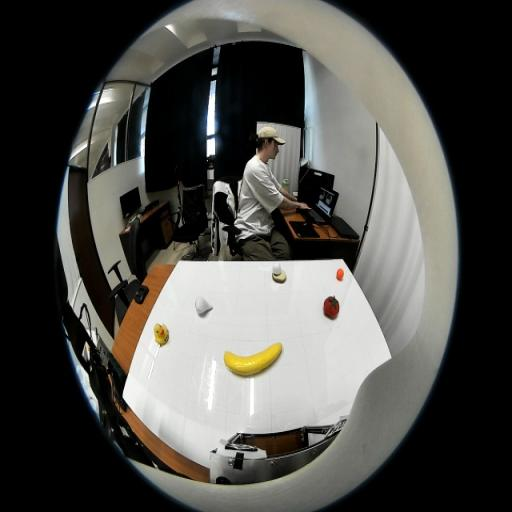Banana: (224, 342, 282, 376)
Duck: (154, 323, 168, 344)
Mushroom: (272, 262, 286, 282)
Onion: (195, 296, 212, 314)
Orange: (336, 268, 344, 280)
Tomato: (324, 296, 339, 318)
